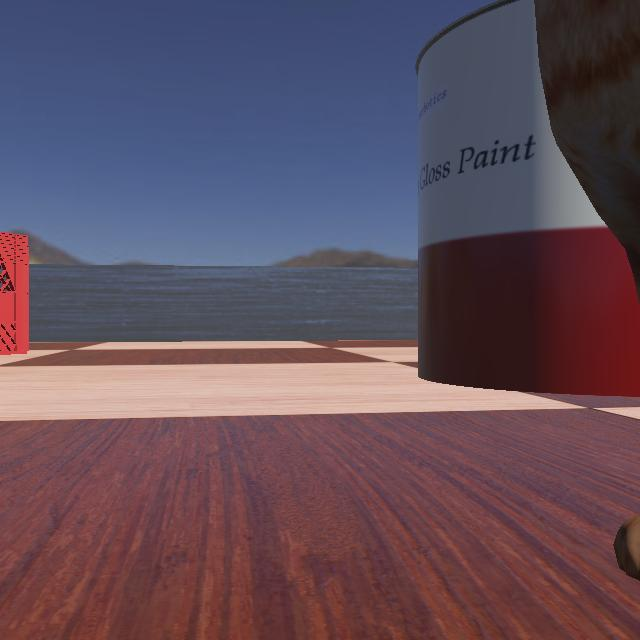cat: (421, 1, 639, 640), (421, 1, 639, 640), (421, 1, 639, 640)
paint-bucket: (391, 1, 639, 402), (391, 1, 639, 402)
plastic-crate: (0, 216, 36, 360)
